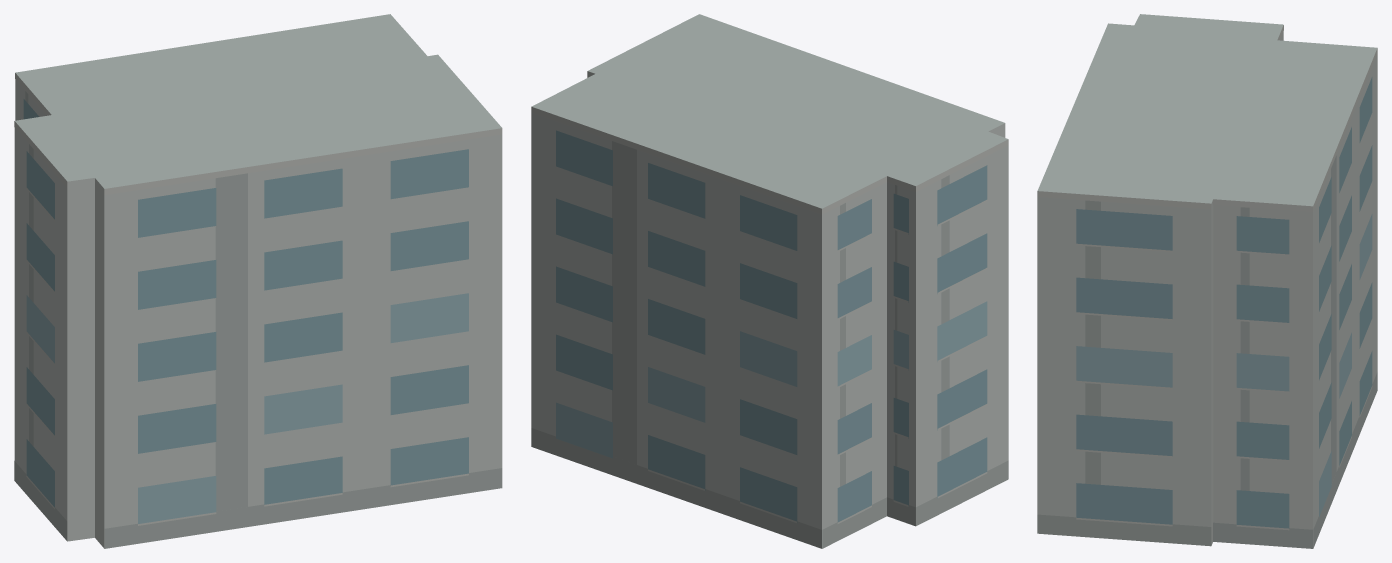
File: survey-upis-32546647.glb
The picture shows the model from 3 angles, left to right: view 1: azimuth 30°, elevation 25°; view 2: azimuth 150°, elevation 25°; view 3: azimuth 270°, elevation 25°; orthographic projection. The views are drawn at different scales.
Parts seen in each view (by area): view 1: survey-upis-32546647.tmp; view 2: survey-upis-32546647.tmp; view 3: survey-upis-32546647.tmp.
Part boxes in pixels (x1=…): survey-upis-32546647.tmp: x1=14, y1=14, x2=502, y2=548; survey-upis-32546647.tmp: x1=531, y1=14, x2=1008, y2=548; survey-upis-32546647.tmp: x1=1037, y1=14, x2=1377, y2=548.
Bounding box in the file's own units: 16.74 × 13.9 × 12.52.
